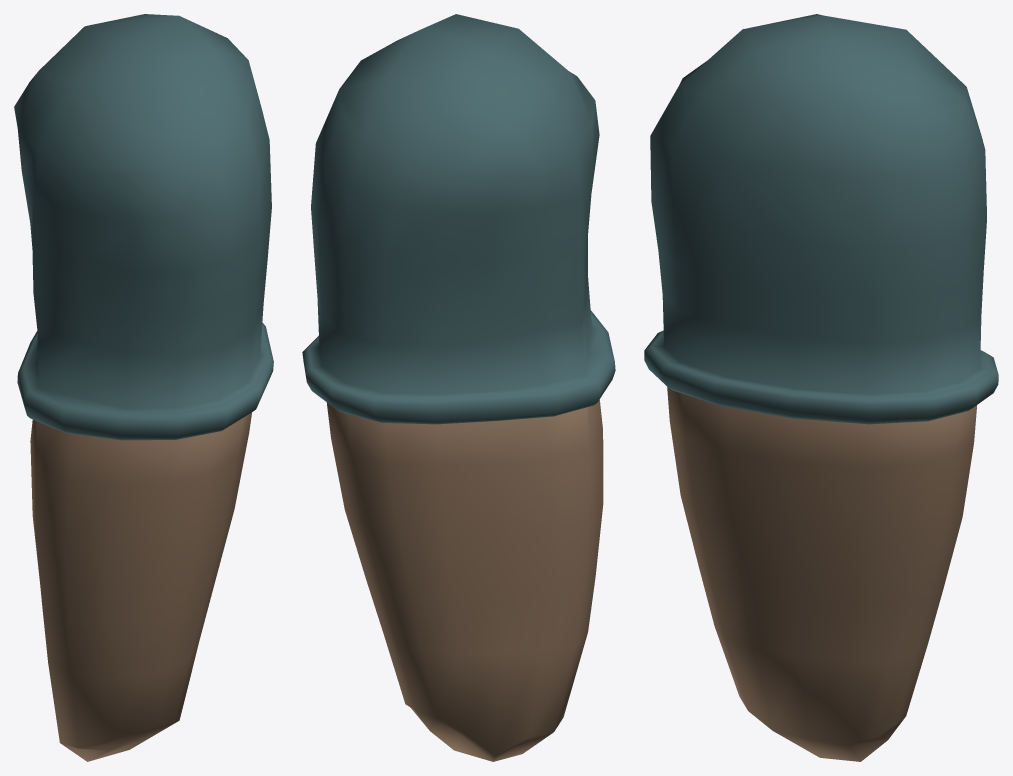
The model's file is personajePacienteHombro.fbx.
3 renders of one model, left to right at view 1: azimuth 30°, elevation 25°; view 2: azimuth 150°, elevation 25°; view 3: azimuth 270°, elevation 25°, orthographic. The views are drawn at different scales.
Parts seen in each view (by area): view 1: brazos; view 2: brazos; view 3: brazos.
Boxes of the visible parts, x1,y1,x2,y2 form: brazos: (14, 14, 273, 761); brazos: (302, 14, 615, 761); brazos: (644, 14, 998, 761).
Size of the model in its own units: 47.67 by 132 by 56.41.
